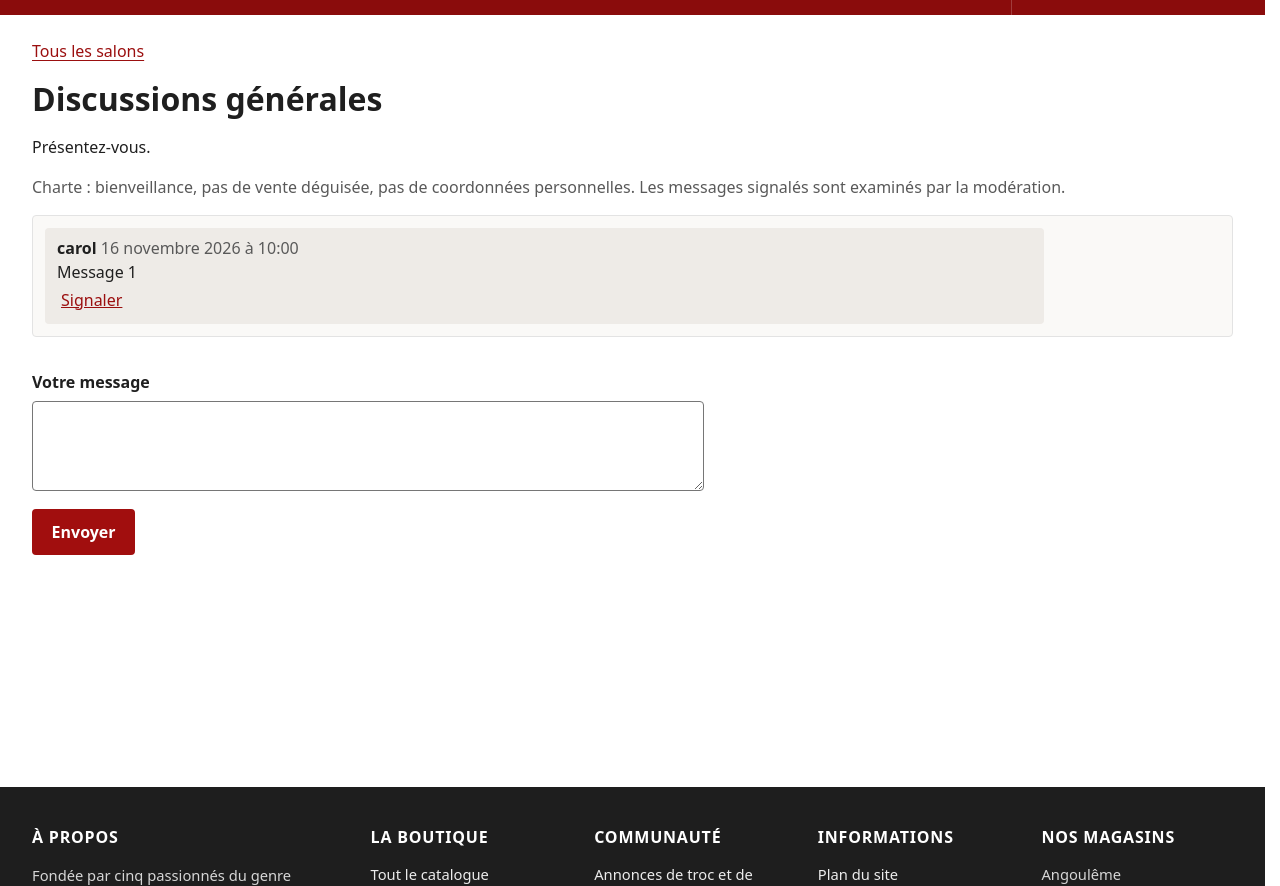
Test: Salons de discussion › affiche la limitation anti-flood et permet d'annuler un signalement
The width and height of the screenshot is (1280, 886).
(page scrolled)
Type "Encore" into the text box labelled "Votre message".
click(368, 446); type("Encore")  # box [32,401,704,491]
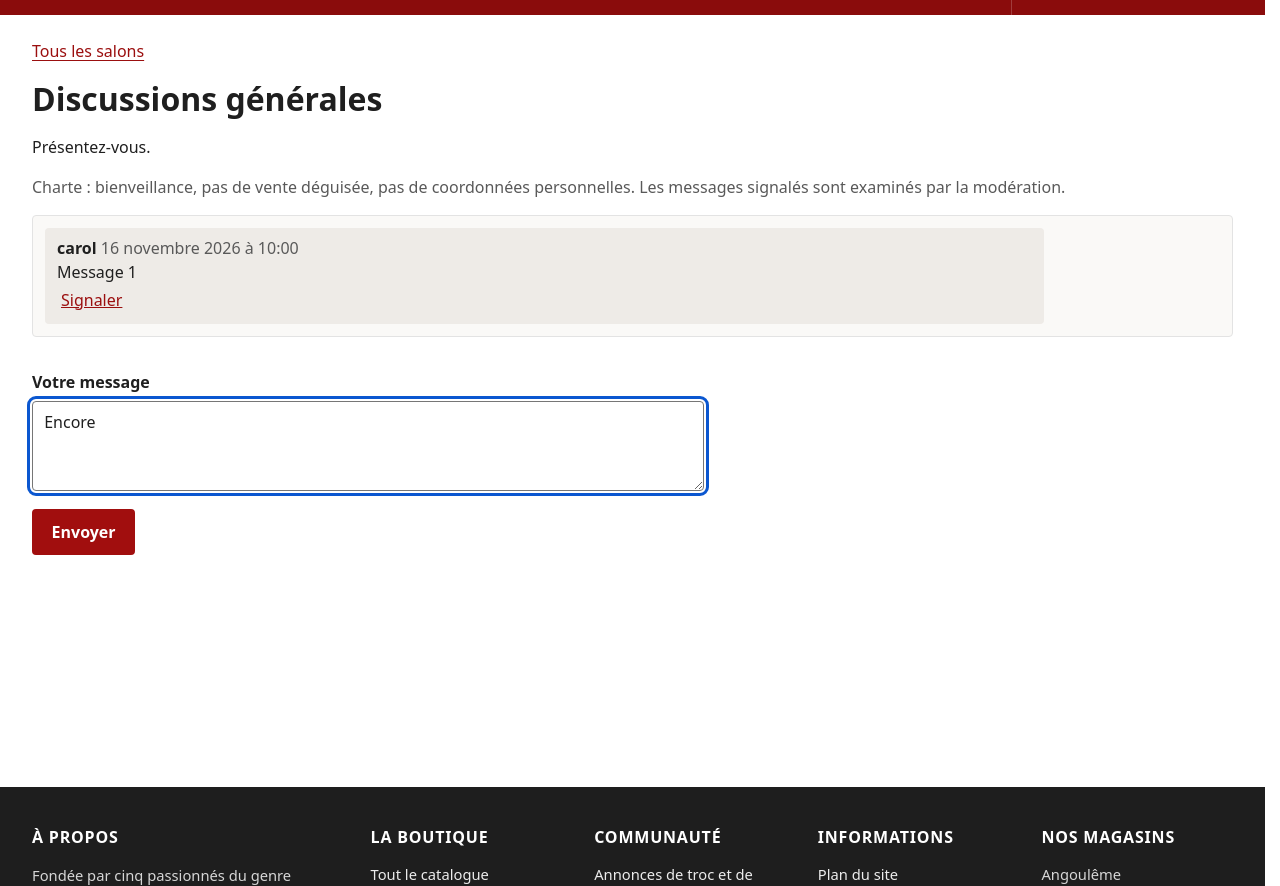
Click the button "Envoyer".
click(84, 532)  # box [32,509,135,555]
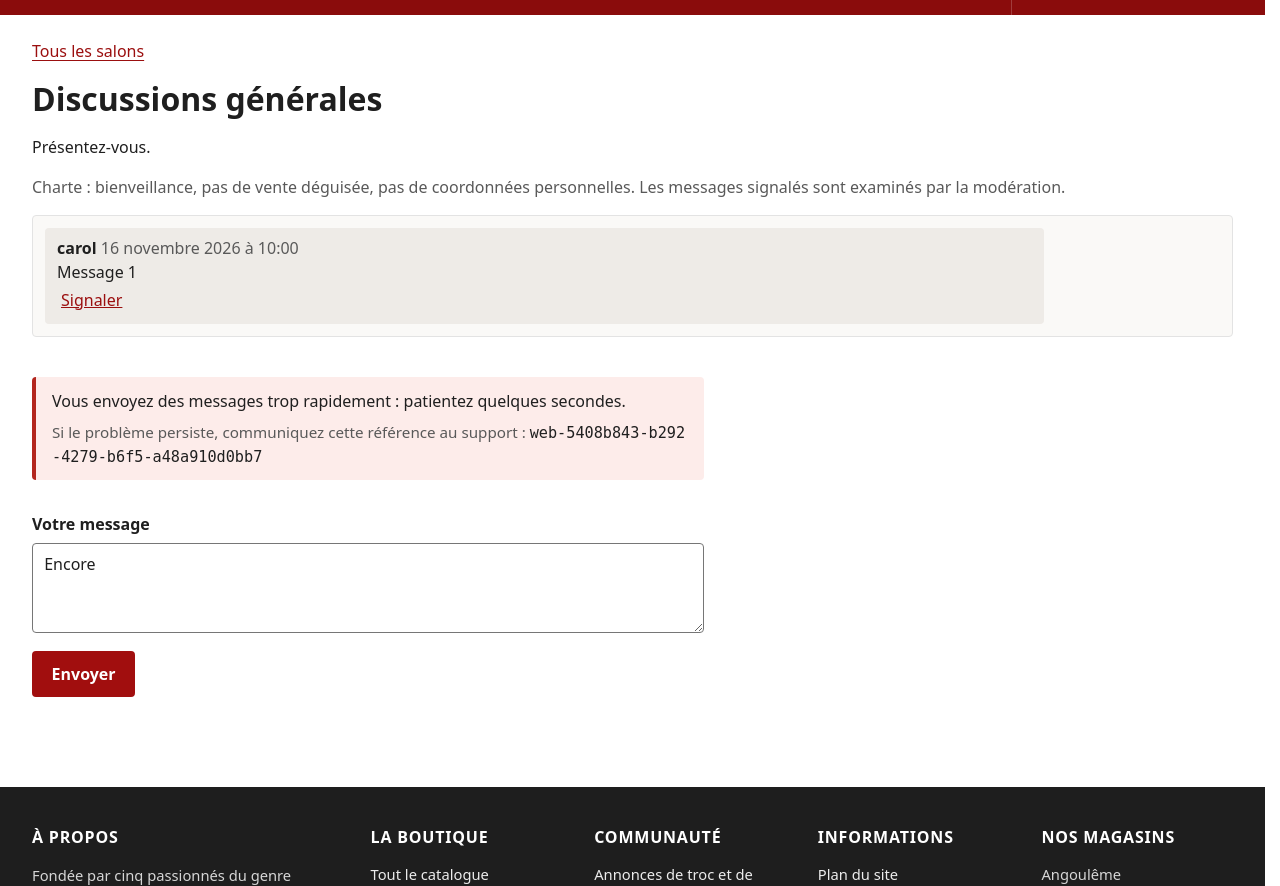
Check: the message shows "patientez quelques secondes", box [52,390,626,412]
Click the button named "Signaler le message de carol".
click(92, 300)  # box [57,284,126,316]
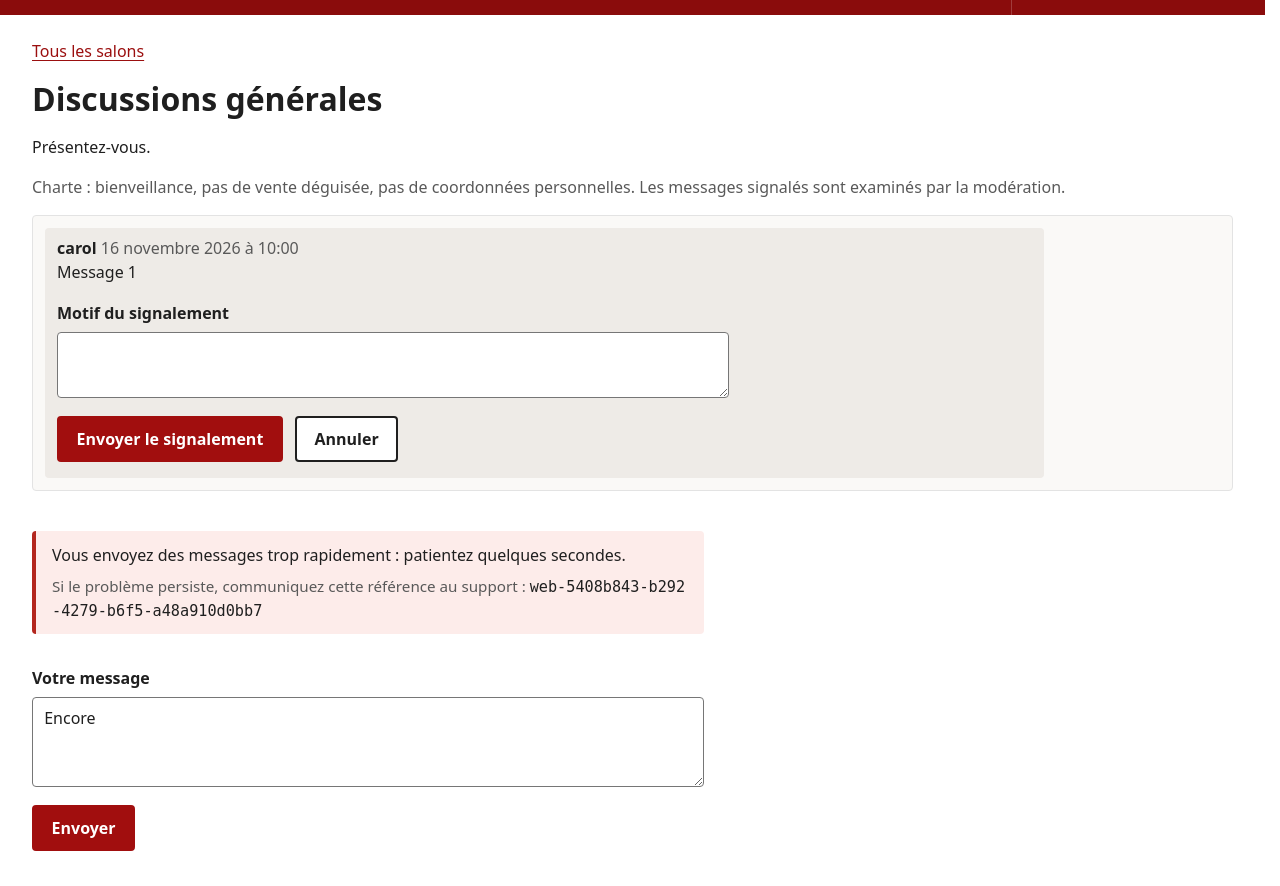
Click the button "Annuler".
click(347, 439)  # box [295,416,398,462]
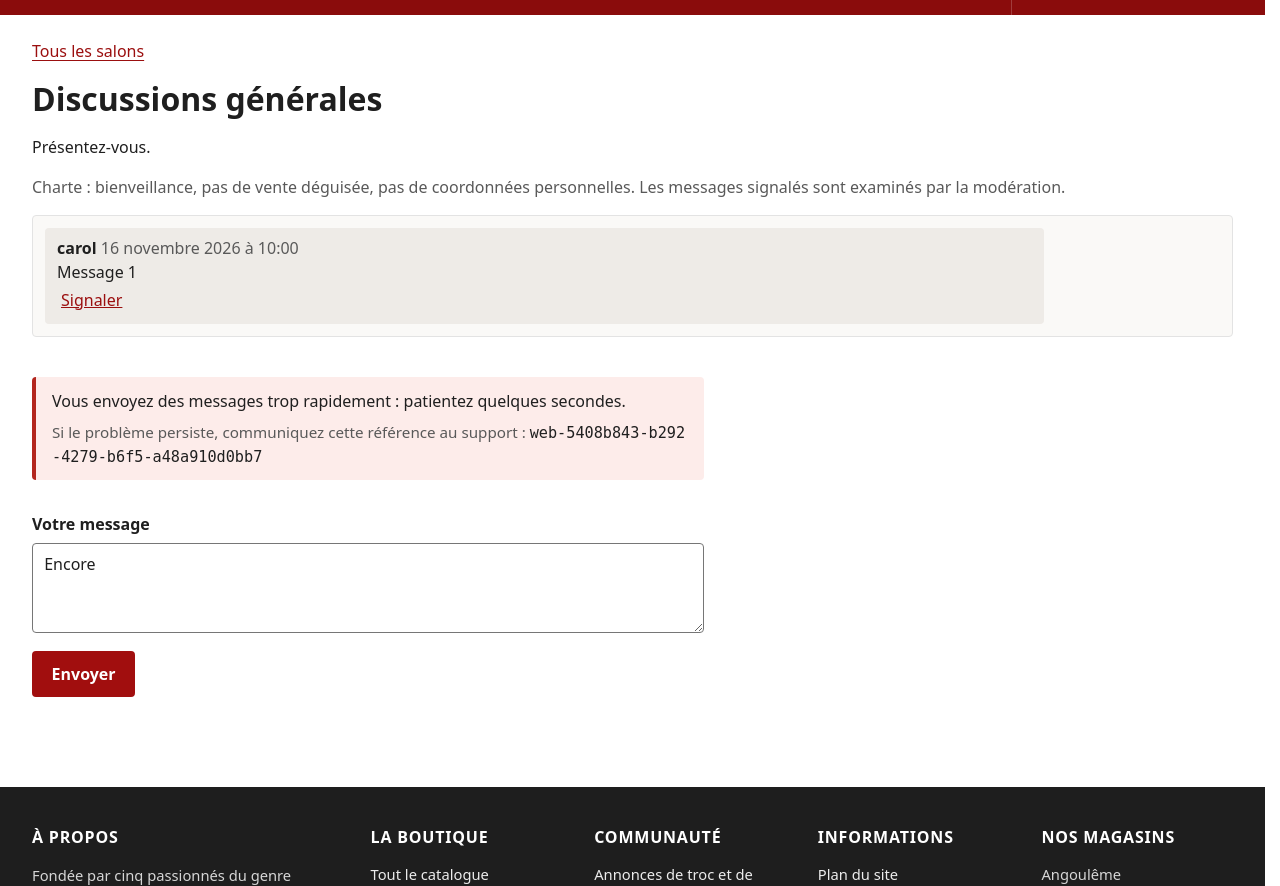
Check: the label labelled "Motif du signalement" is gone
